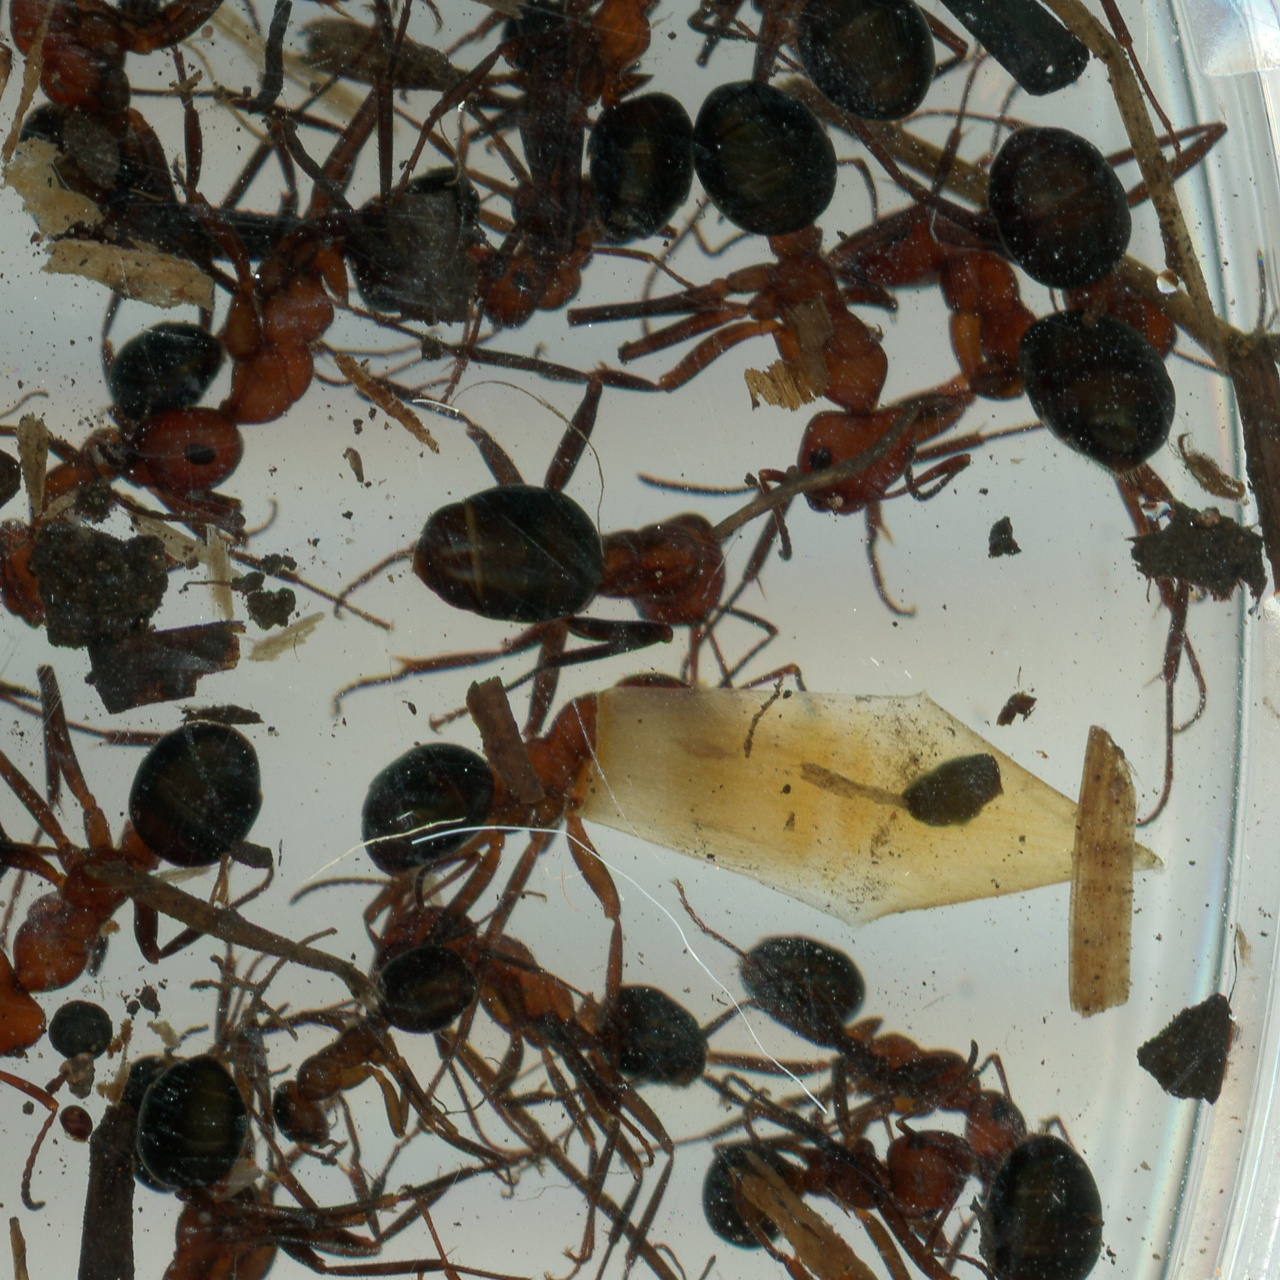arthropod: (489, 34, 985, 607), (292, 578, 855, 995), (595, 850, 1064, 1224), (348, 870, 772, 1280), (409, 0, 1042, 268), (0, 658, 329, 1107), (87, 144, 484, 505), (0, 0, 373, 294), (379, 420, 778, 663), (659, 0, 1198, 166), (73, 1044, 392, 1280), (433, 0, 700, 250), (688, 1065, 983, 1268), (881, 1133, 1144, 1280), (399, 1184, 704, 1280), (1145, 404, 1265, 535), (57, 1104, 98, 1150)
